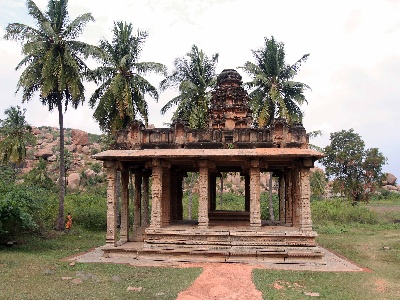mandapa: (83, 118, 338, 242)
